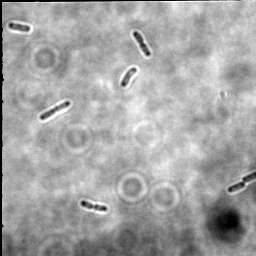Dividing: (39, 99, 72, 122), (227, 172, 255, 194), (132, 30, 152, 59), (80, 199, 109, 213)
Rod: (120, 66, 139, 88), (8, 21, 33, 33)
